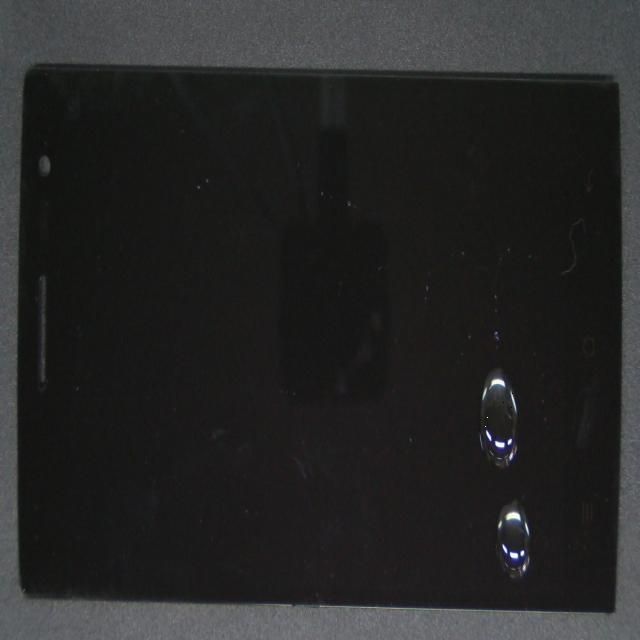oil: (255, 162, 640, 581), (241, 250, 640, 640)
